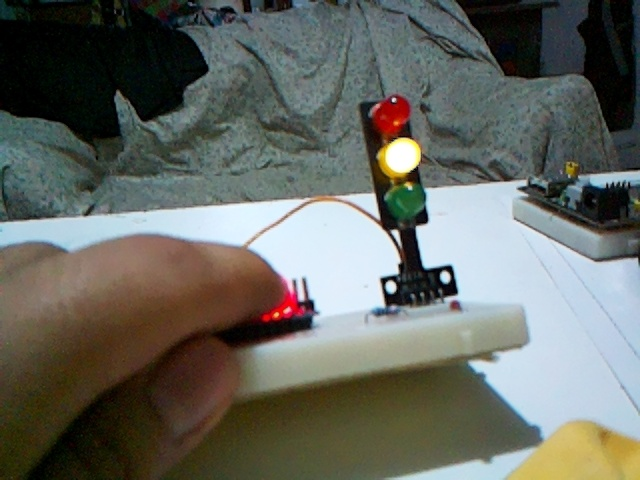traffic_light_yellow: (360, 94, 428, 229)
